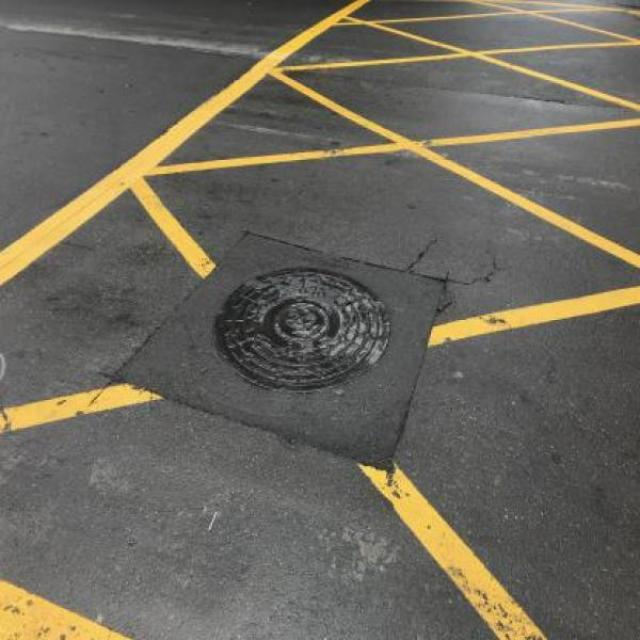Good: (202, 260, 394, 404)
